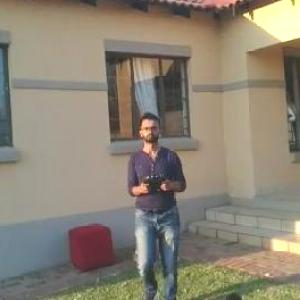follow: (117, 109, 188, 299)
